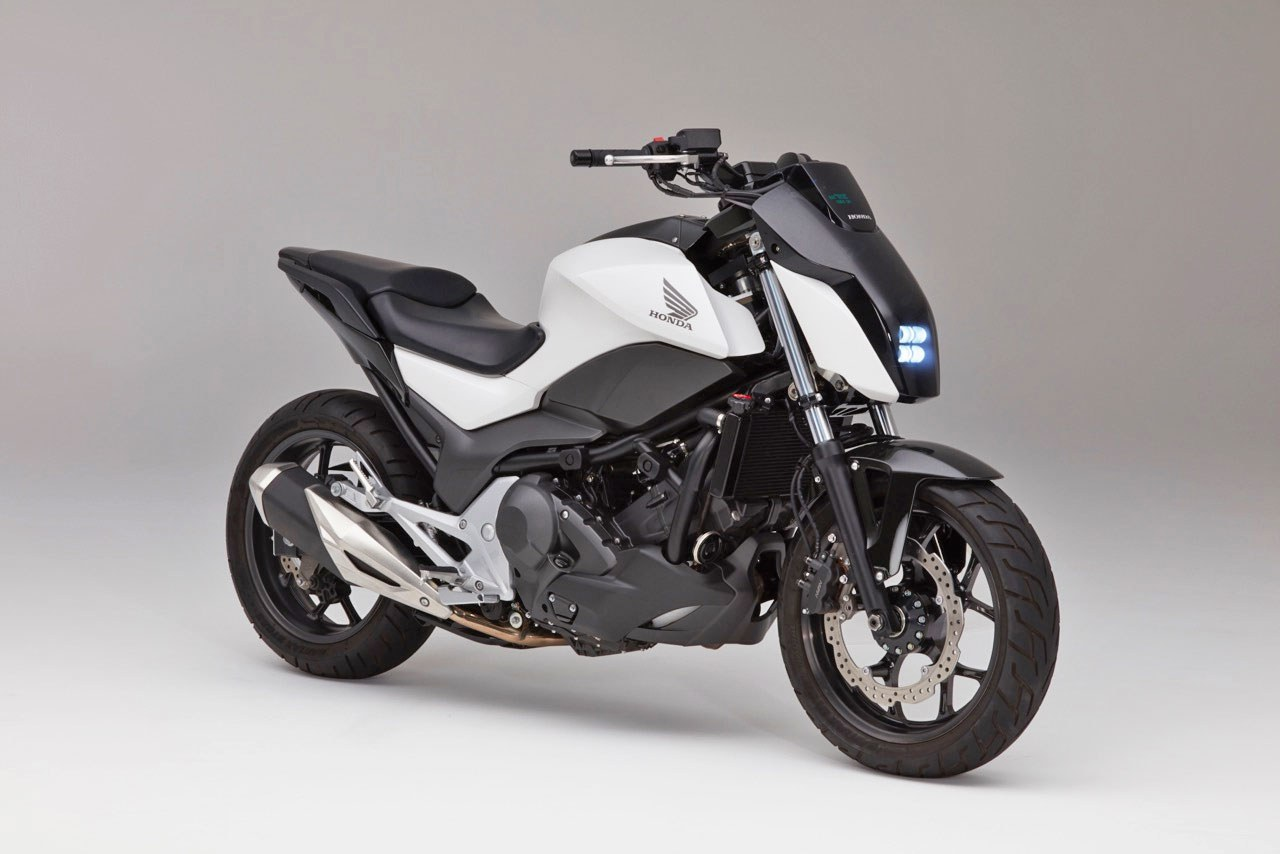motorcycle: (220, 113, 1071, 779)
